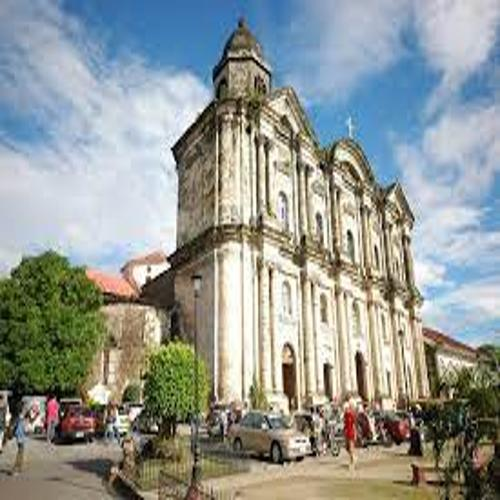Taal Basilica Church: (151, 16, 436, 440)
